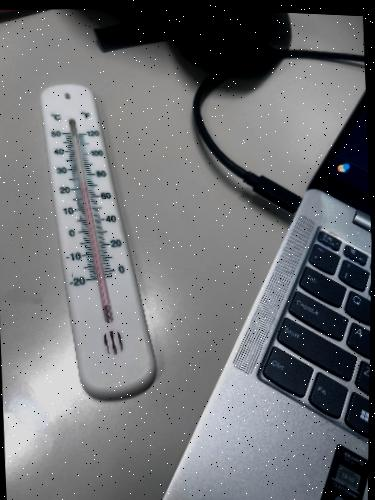thermo: (38, 75, 160, 392)
